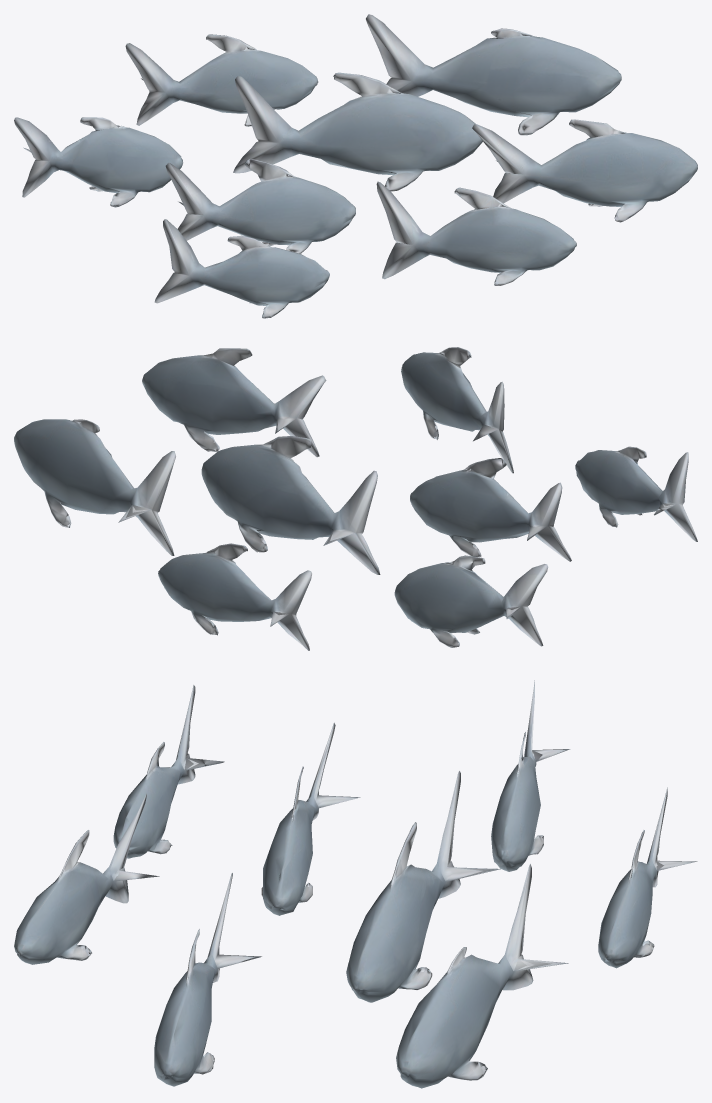
File: Fischwarm.glb
3 renders of one model, top to bottom at view 1: azimuth 30°, elevation 25°; view 2: azimuth 150°, elevation 25°; view 3: azimuth 270°, elevation 25°, orthographic. The views are drawn at different scales.
Parts seen in each view (by area): view 1: tripo_node_68dc647f-1bd8-4dce-91a6-18eac893f9d9; view 2: tripo_node_68dc647f-1bd8-4dce-91a6-18eac893f9d9; view 3: tripo_node_68dc647f-1bd8-4dce-91a6-18eac893f9d9.
Part boxes in pixels (x1,y1,x2,y2): tripo_node_68dc647f-1bd8-4dce-91a6-18eac893f9d9: [14, 14, 697, 318]; tripo_node_68dc647f-1bd8-4dce-91a6-18eac893f9d9: [14, 347, 697, 650]; tripo_node_68dc647f-1bd8-4dce-91a6-18eac893f9d9: [14, 680, 697, 1088].
Bounding box in the file's own units: 0.998 × 0.209 × 0.8848.
1 material, 1 textured.
